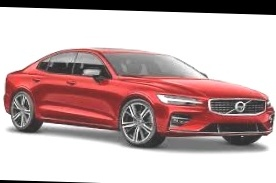car: (1, 33, 276, 156)
